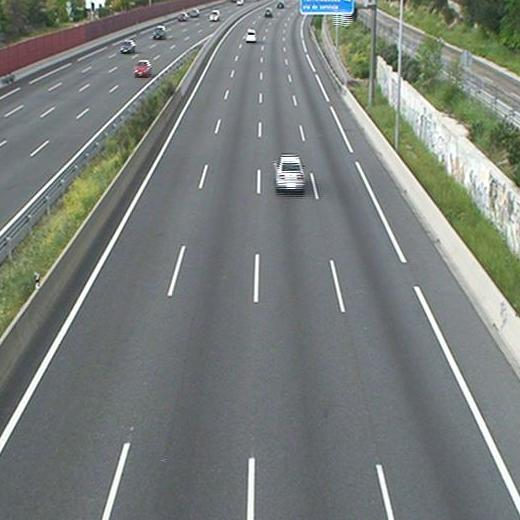car: (273, 156, 303, 187), (245, 29, 257, 41), (263, 9, 273, 17), (276, 1, 284, 8)
